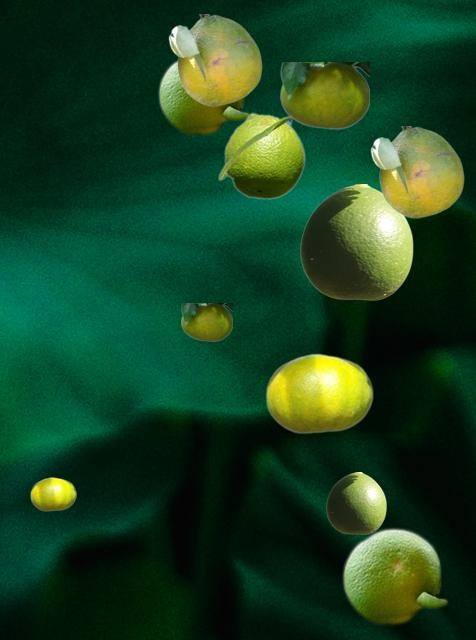dalandan: (300, 184, 412, 299), (341, 526, 448, 625), (265, 353, 372, 433), (168, 14, 261, 105), (370, 126, 463, 217), (217, 112, 305, 199), (157, 59, 249, 135), (280, 62, 368, 128), (326, 472, 385, 533), (181, 303, 231, 340), (30, 477, 75, 510)
